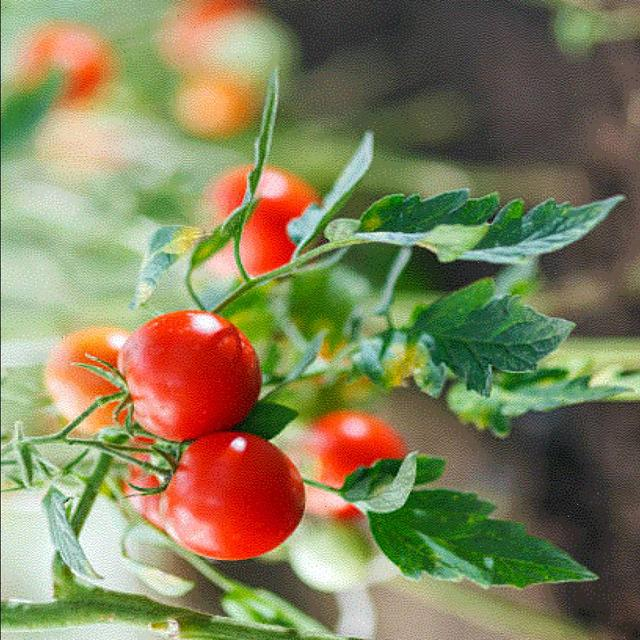Healthy Fruit: (36, 40, 237, 327)
